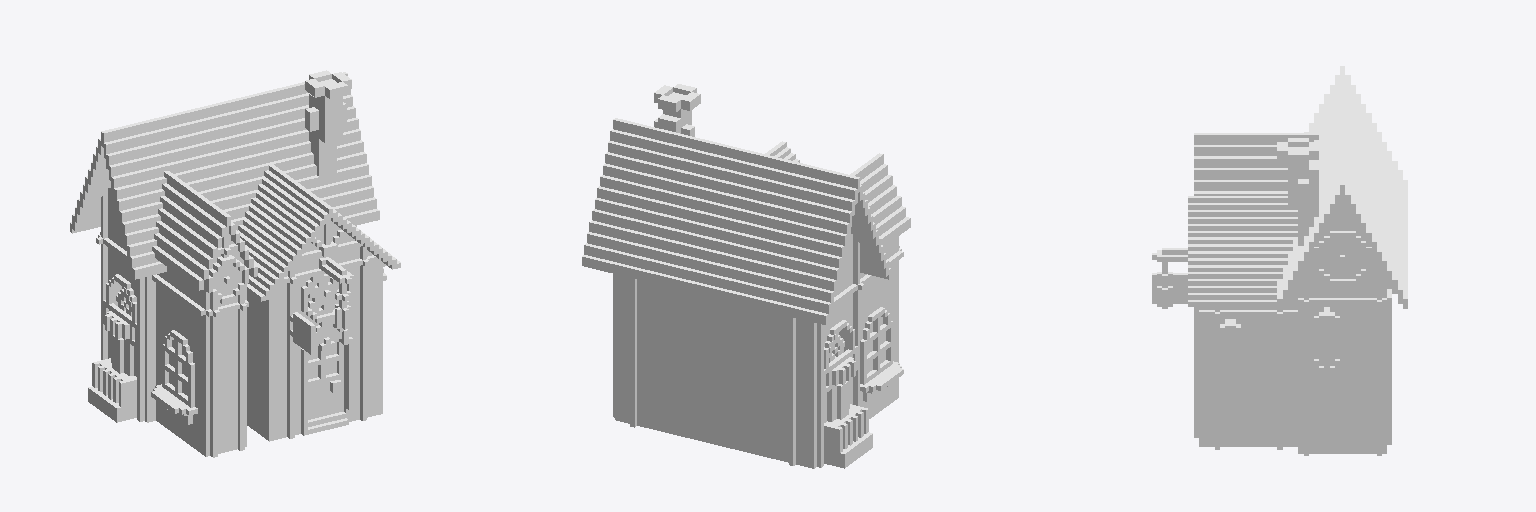
Rendered from juingong_home.obj.
3 views of the same model, side by side, from view 1: azimuth 30°, elevation 25°; view 2: azimuth 150°, elevation 25°; view 3: azimuth 270°, elevation 25° (orthographic).
Parts seen in each view (by area): view 1: juingong_home; view 2: juingong_home; view 3: juingong_home.
Part boxes in pixels (x1,y1,x2,y2): juingong_home: (70,70,400,457); juingong_home: (582,84,910,468); juingong_home: (1152,66,1407,455).
Size of the model in its own units: 54 by 63 by 49.